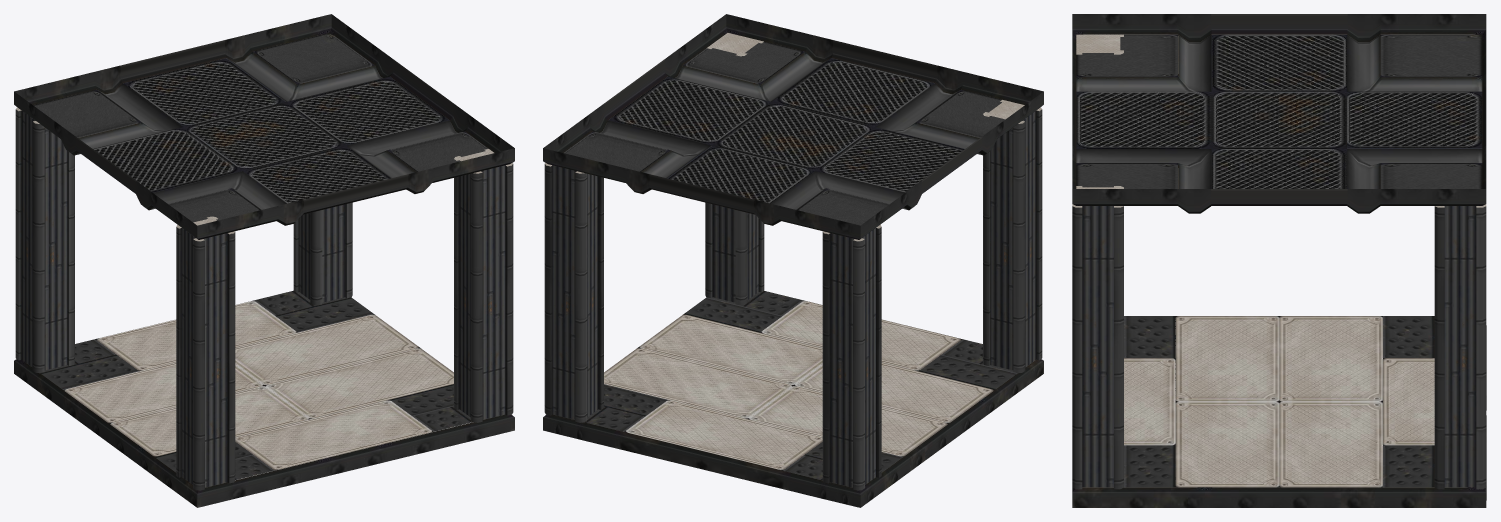
The model's file is Corridor_Crossroad_Rework.fbx.
3 views of the same model, side by side, from view 1: azimuth 30°, elevation 25°; view 2: azimuth 150°, elevation 25°; view 3: azimuth 270°, elevation 25° (orthographic). The views are drawn at different scales.
Visible parts, largest first — view 1: Corridor_Crossroad_Rework; view 2: Corridor_Crossroad_Rework; view 3: Corridor_Crossroad_Rework.
Part boxes in pixels (<box>): Corridor_Crossroad_Rework: <box>14,14,514,507</box>; Corridor_Crossroad_Rework: <box>543,14,1043,507</box>; Corridor_Crossroad_Rework: <box>1072,14,1486,507</box>.
Bounding box in the file's own units: 400 × 340 × 400.
